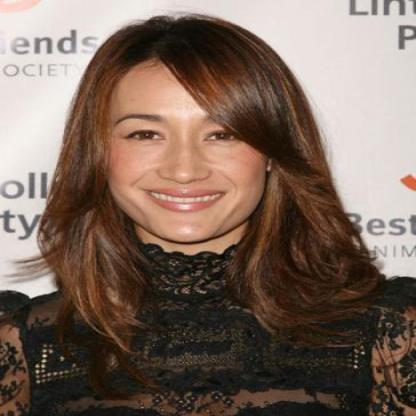long-hair: (40, 236, 354, 250)
